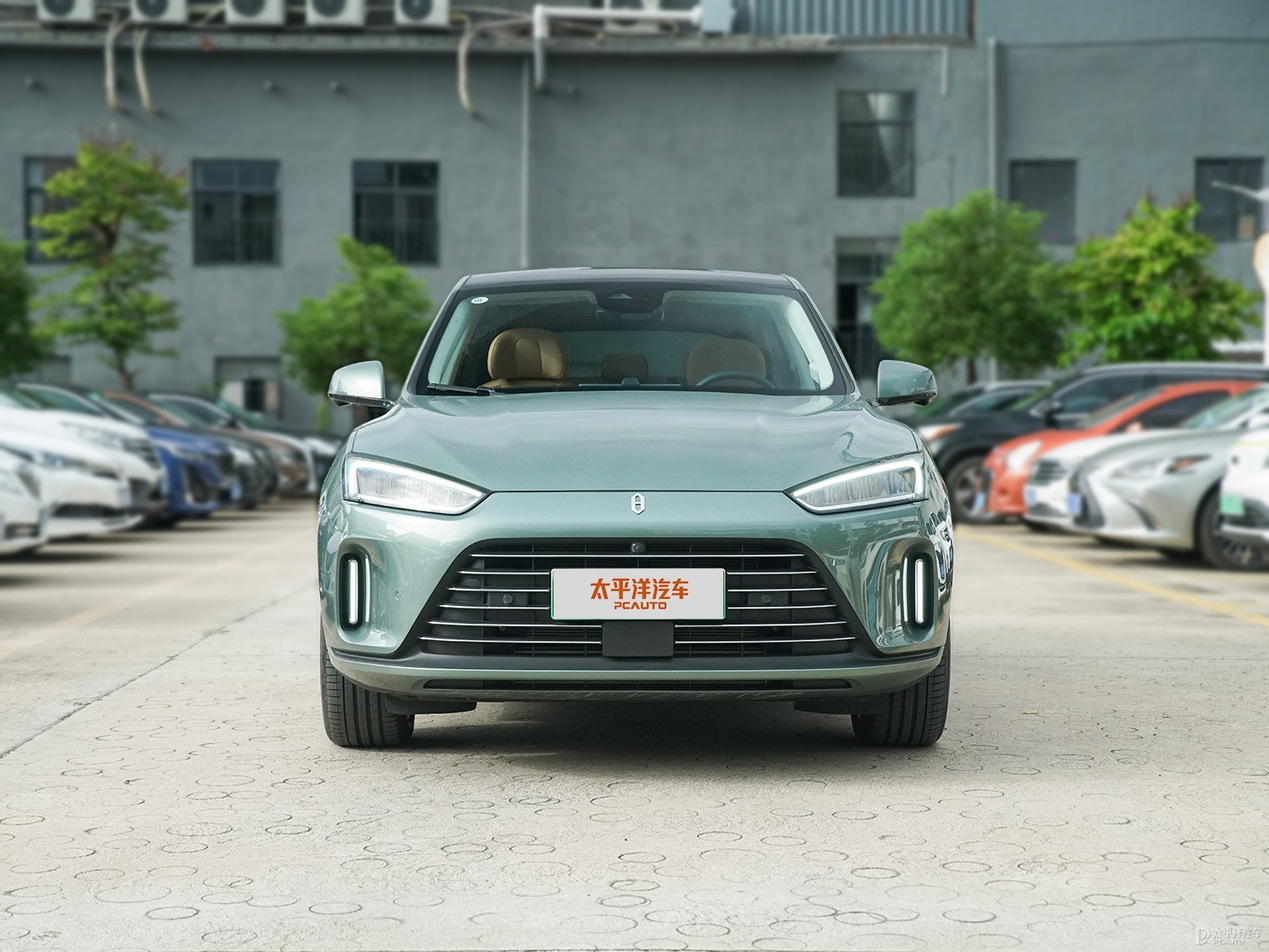AITO: (631, 493, 645, 514)
